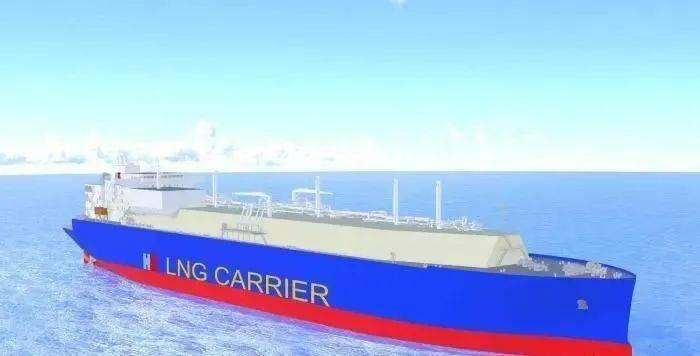Cargoship: (63, 157, 637, 354)
